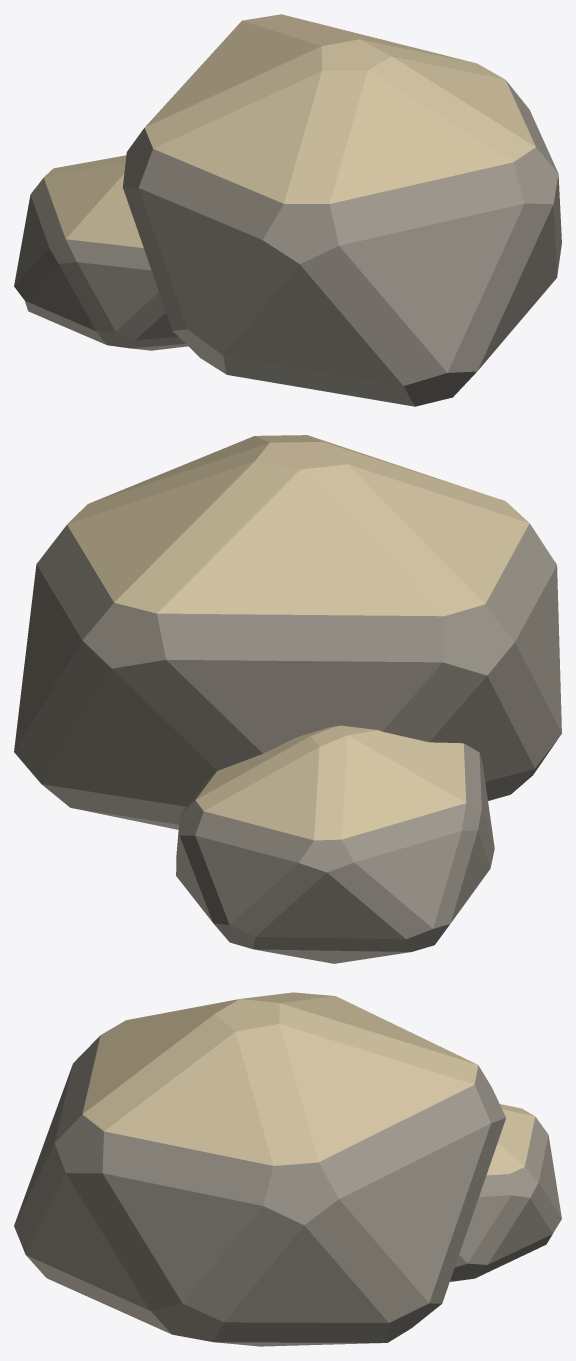
Rendered from Rock_B.fbx.
The picture shows the model from 3 angles, top to bottom: view 1: azimuth 30°, elevation 25°; view 2: azimuth 150°, elevation 25°; view 3: azimuth 270°, elevation 25°; orthographic projection. The views are drawn at different scales.
Parts seen in each view (by area): view 1: Rock_B; view 2: Rock_B; view 3: Rock_B.
Part boxes in pixels (x1=…): Rock_B: x1=14, y1=14, x2=561, y2=406; Rock_B: x1=14, y1=435, x2=561, y2=963; Rock_B: x1=14, y1=992, x2=561, y2=1346.
Bounding box in the file's own units: 0.8259 × 0.6209 × 0.9468.
